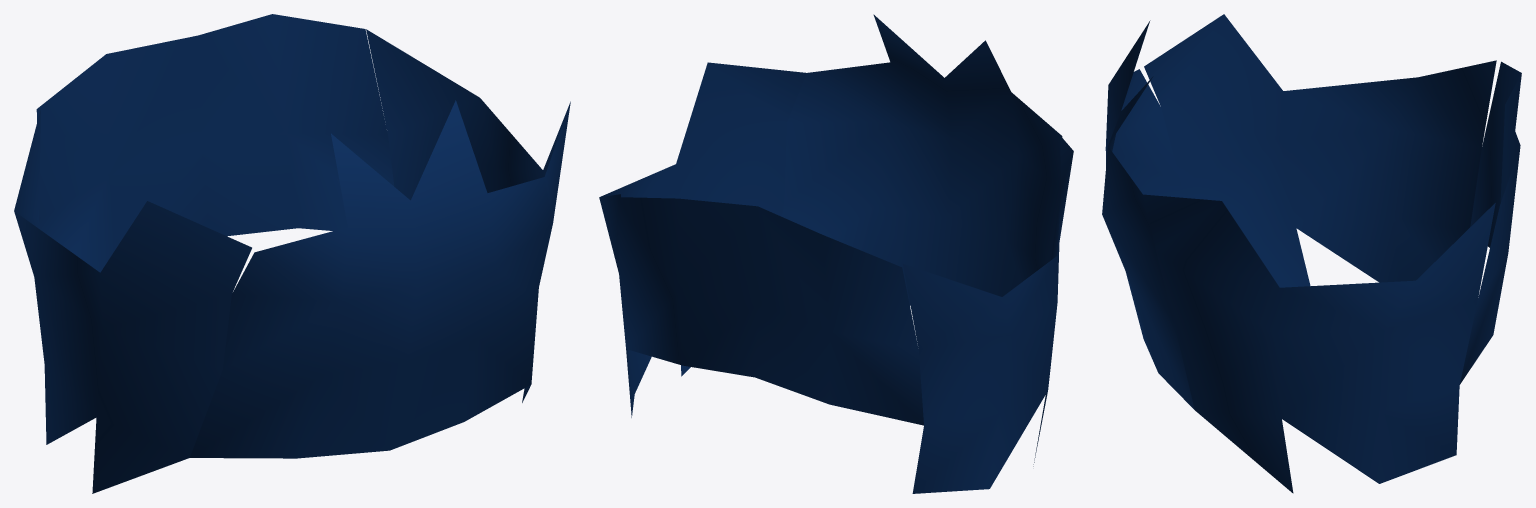
Rendered from spine1.glb.
3 views of the same model, side by side, from view 1: azimuth 30°, elevation 25°; view 2: azimuth 150°, elevation 25°; view 3: azimuth 270°, elevation 25° (orthographic). The views are drawn at different scales.
Parts seen in each view (by area): view 1: polo-navy_SPINE1; view 2: polo-navy_SPINE1; view 3: polo-navy_SPINE1.
Boxes of the visible parts, x1,y1,x2,y2 form: polo-navy_SPINE1: [14, 14, 570, 493]; polo-navy_SPINE1: [599, 14, 1073, 493]; polo-navy_SPINE1: [1102, 14, 1521, 493].
Size of the model in its own units: 0.3731 by 0.3036 by 0.3246.
1 material, 1 textured.
